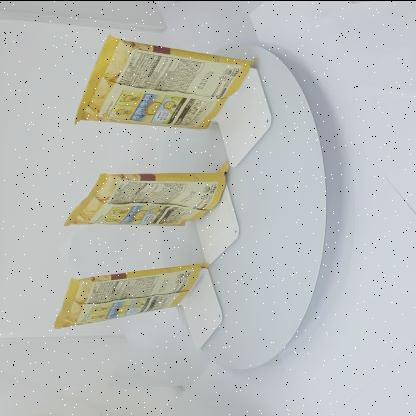Others: (44, 25, 264, 336)
